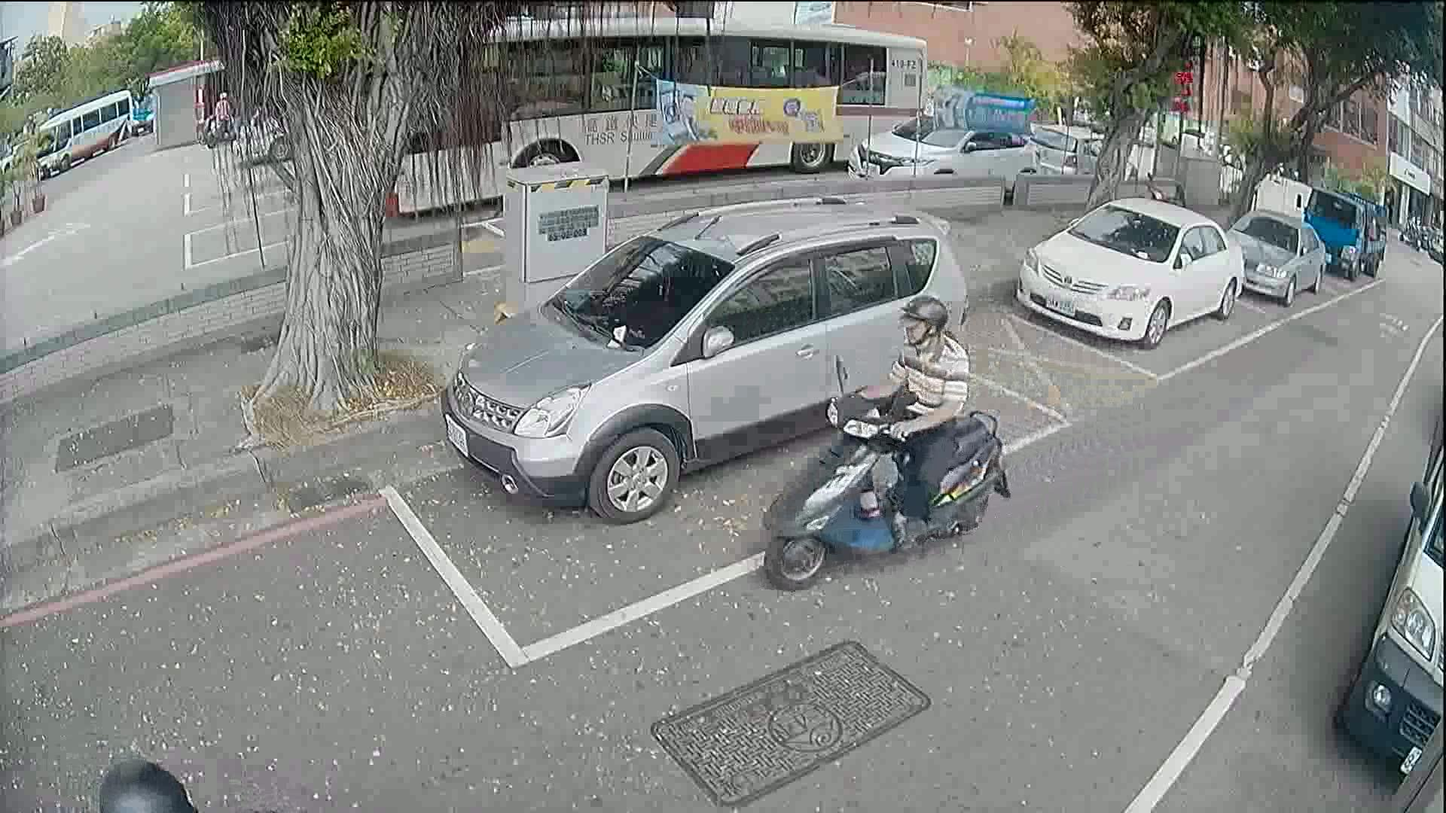person: (841, 301, 974, 543), (95, 748, 276, 811), (208, 85, 232, 143)
